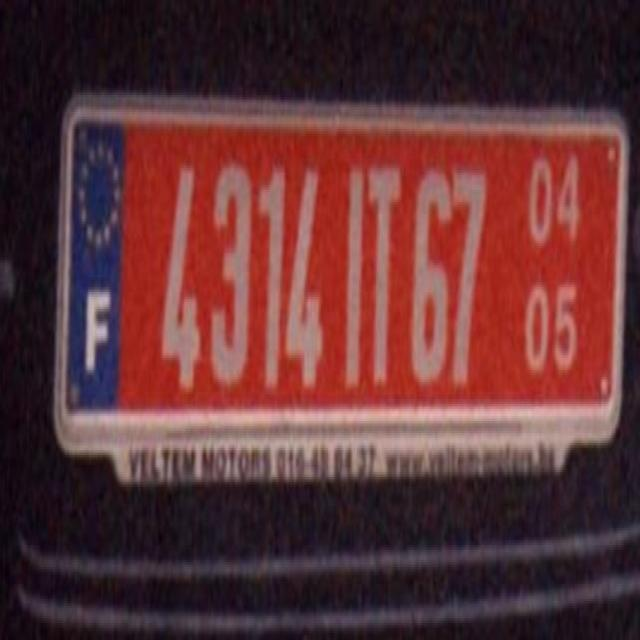licenseplate: (49, 49, 640, 504)
